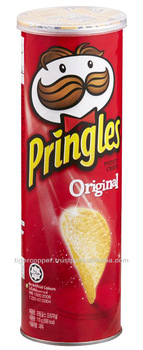pringle: (9, 7, 134, 348)
